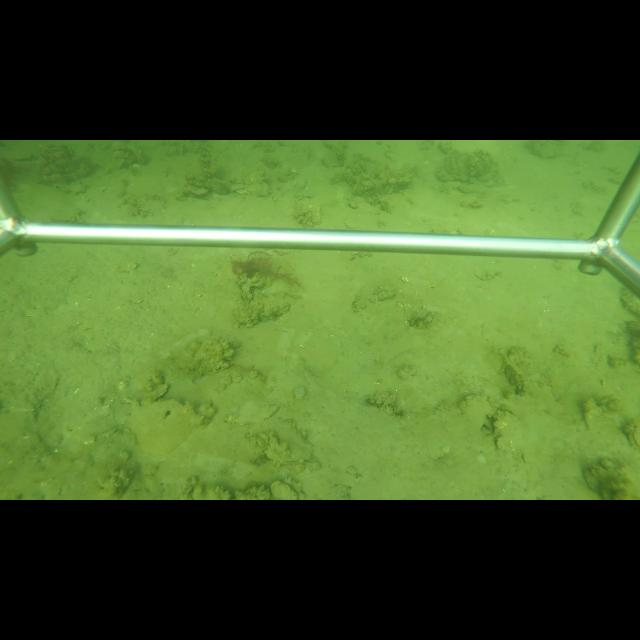Oyster-Closed: (256, 418, 318, 467), (493, 408, 533, 452), (502, 354, 528, 396), (151, 383, 170, 402), (310, 204, 324, 227)
